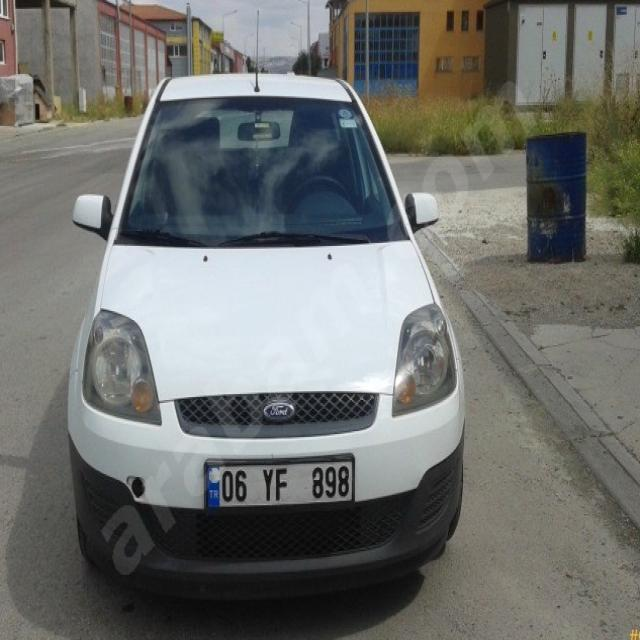license_plate: (205, 459, 354, 508)
